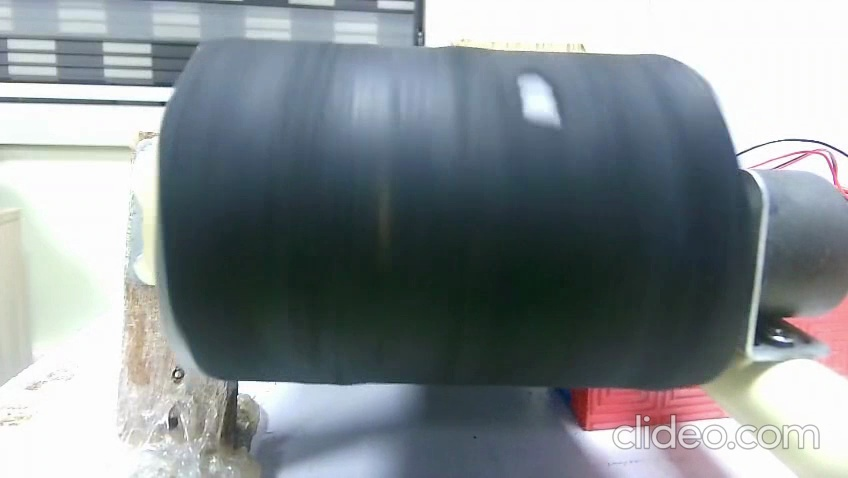hole: (511, 68, 563, 130)
